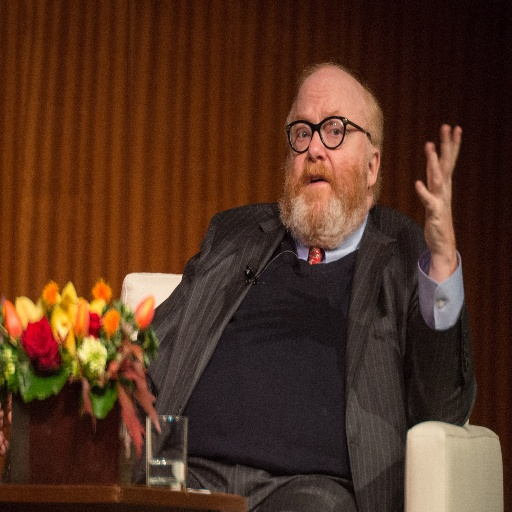hand: (406, 127, 471, 271)
